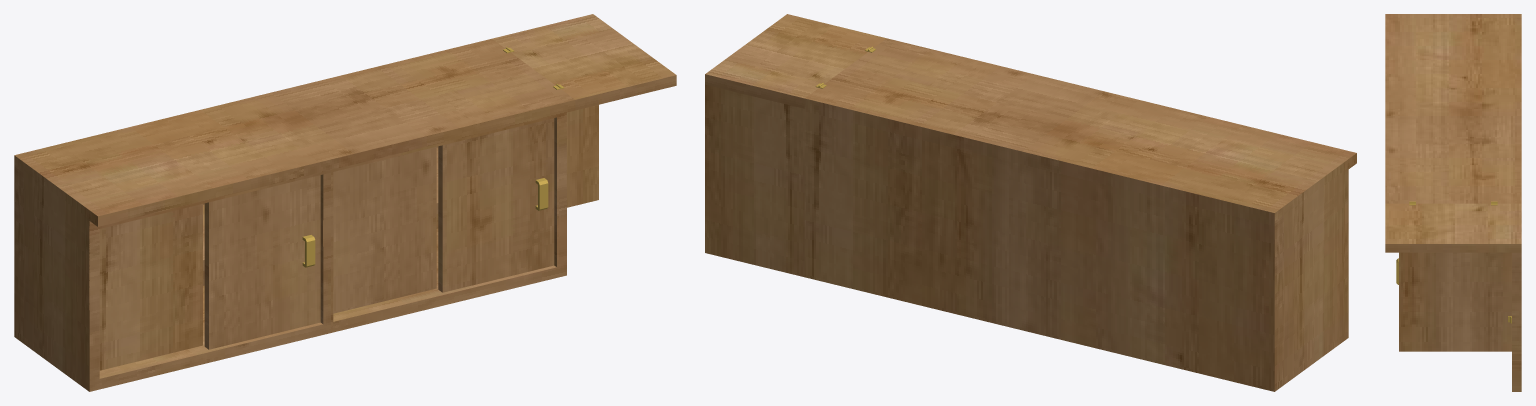
File: counter_3.glb
3 renders of one model, left to right at view 1: azimuth 30°, elevation 25°; view 2: azimuth 150°, elevation 25°; view 3: azimuth 270°, elevation 25°, orthographic. The views are drawn at different scales.
Visible parts, largest first — view 1: main_0, door_2_2, door_4_3, door_3_4, door_1_1, entrance_door_1_5, entrance_door_2_6; view 2: main_0, entrance_door_2_6, entrance_door_1_5; view 3: main_0, entrance_door_1_5, entrance_door_2_6.
Part boxes in pixels (bbox=[...]): main_0: bbox=[14, 38, 575, 391]; door_2_2: bbox=[204, 175, 320, 349]; door_4_3: bbox=[438, 118, 554, 292]; door_3_4: bbox=[333, 147, 436, 313]; door_1_1: bbox=[99, 204, 202, 370]; entrance_door_1_5: bbox=[492, 14, 676, 110]; entrance_door_2_6: bbox=[567, 105, 598, 207]; main_0: bbox=[804, 38, 1356, 391]; entrance_door_2_6: bbox=[705, 84, 804, 277]; entrance_door_1_5: bbox=[705, 14, 886, 108]; main_0: bbox=[1385, 14, 1521, 351]; entrance_door_1_5: bbox=[1385, 203, 1521, 252]; entrance_door_2_6: bbox=[1511, 252, 1521, 391].
Size of the model in its own units: 4 by 1.22 by 1.
Materials: 12 (7 with a texture image).
